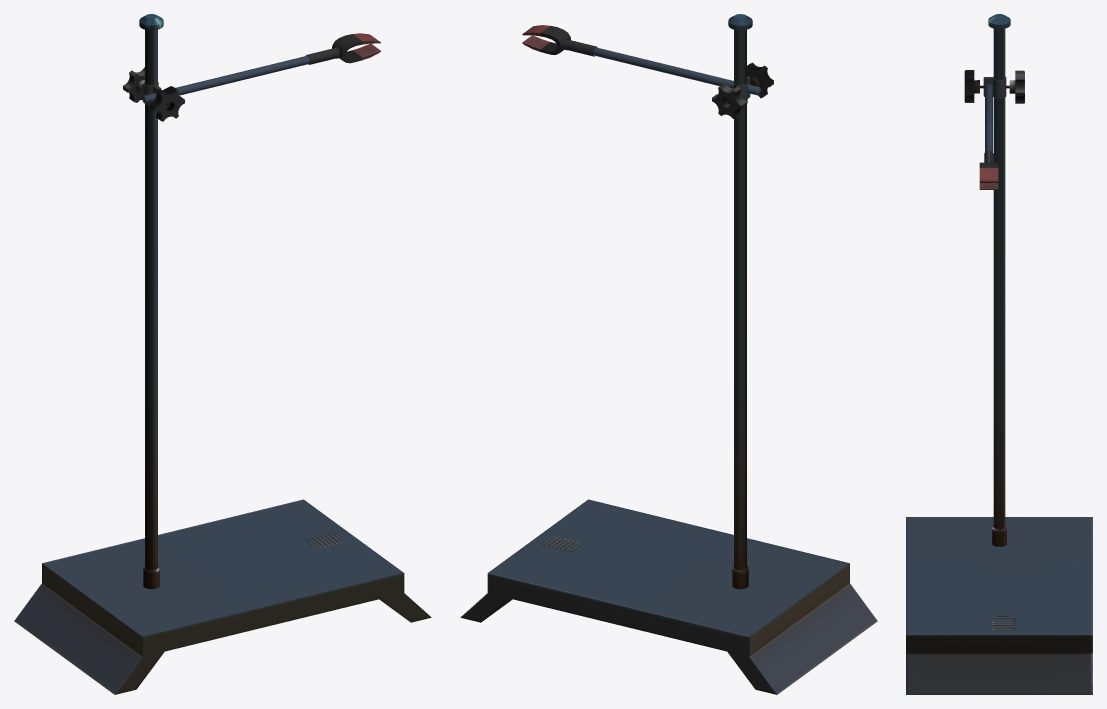
Rendered from shtativ_visokiy.fbx.
3 views of the same model, side by side, from view 1: azimuth 30°, elevation 25°; view 2: azimuth 150°, elevation 25°; view 3: azimuth 270°, elevation 25° (orthographic). The views are drawn at different scales.
Parts seen in each view (by area): view 1: shtativ_low.005, shtativ_low.006, Derjatel_low.006, Cylinder.002, Derjatel_low.003; view 2: shtativ_low.005, shtativ_low.006, Derjatel_low.006, Cylinder.002, Derjatel_low.003; view 3: shtativ_low.005, shtativ_low.006, Derjatel_low.006, Derjatel_low.003, Cylinder.002.
Part boxes in pixels (x1,y1,x2,y2): shtativ_low.005: [14, 499, 431, 694]; shtativ_low.006: [139, 14, 163, 589]; Derjatel_low.006: [142, 48, 336, 105]; Cylinder.002: [306, 33, 380, 64]; Derjatel_low.003: [123, 67, 184, 121]; shtativ_low.005: [460, 499, 877, 694]; shtativ_low.006: [728, 14, 752, 589]; Derjatel_low.006: [567, 40, 760, 102]; Cylinder.002: [522, 25, 597, 56]; Derjatel_low.003: [712, 62, 773, 118]; shtativ_low.005: [906, 517, 1092, 694]; shtativ_low.006: [988, 14, 1010, 546]; Derjatel_low.006: [983, 76, 1006, 162]; Derjatel_low.003: [964, 70, 1024, 103]; Cylinder.002: [979, 151, 998, 189].
Size of the model in its own units: 51.65 by 96.55 by 28.44.
